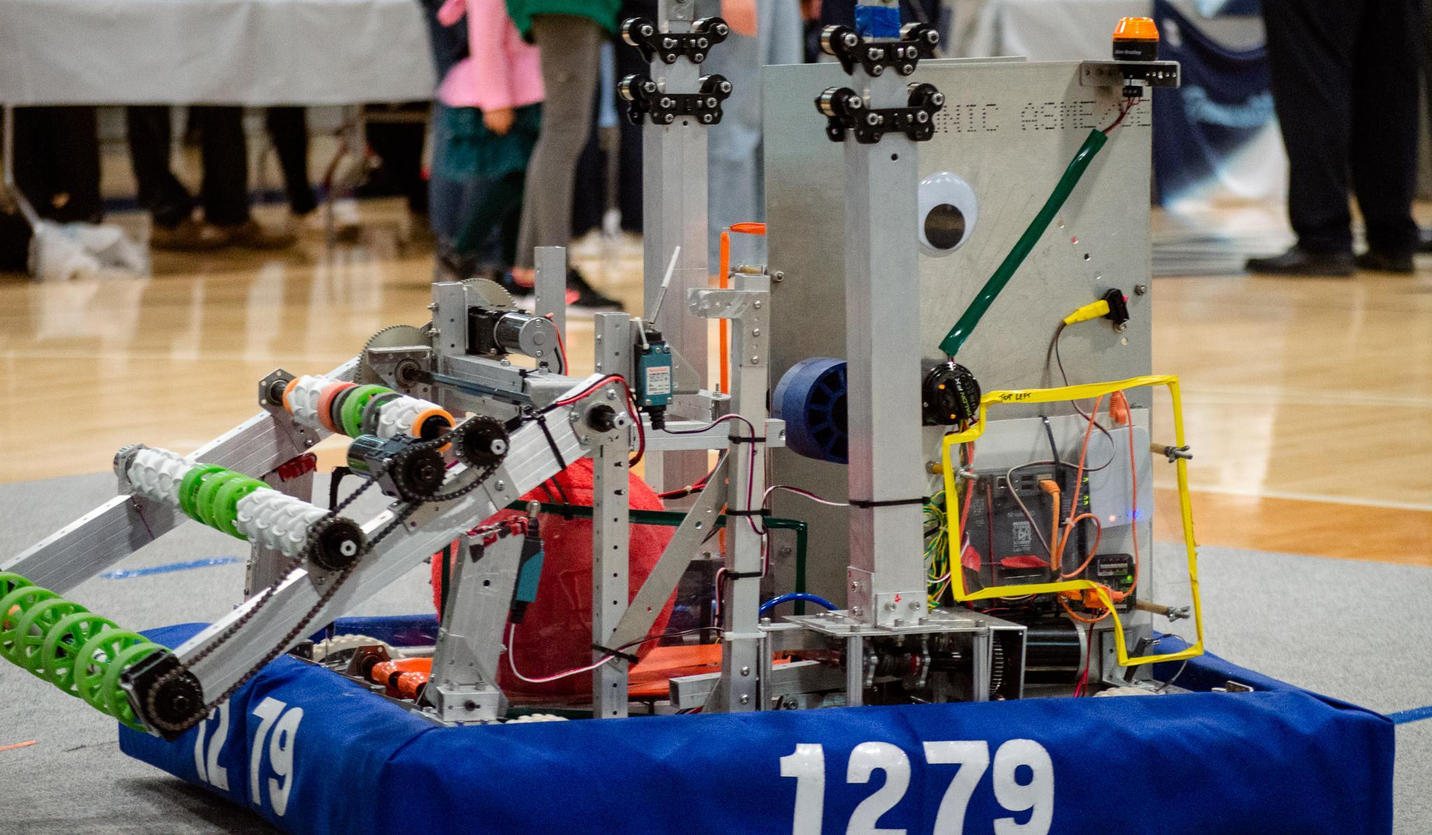robot: (0, 0, 1411, 835)
